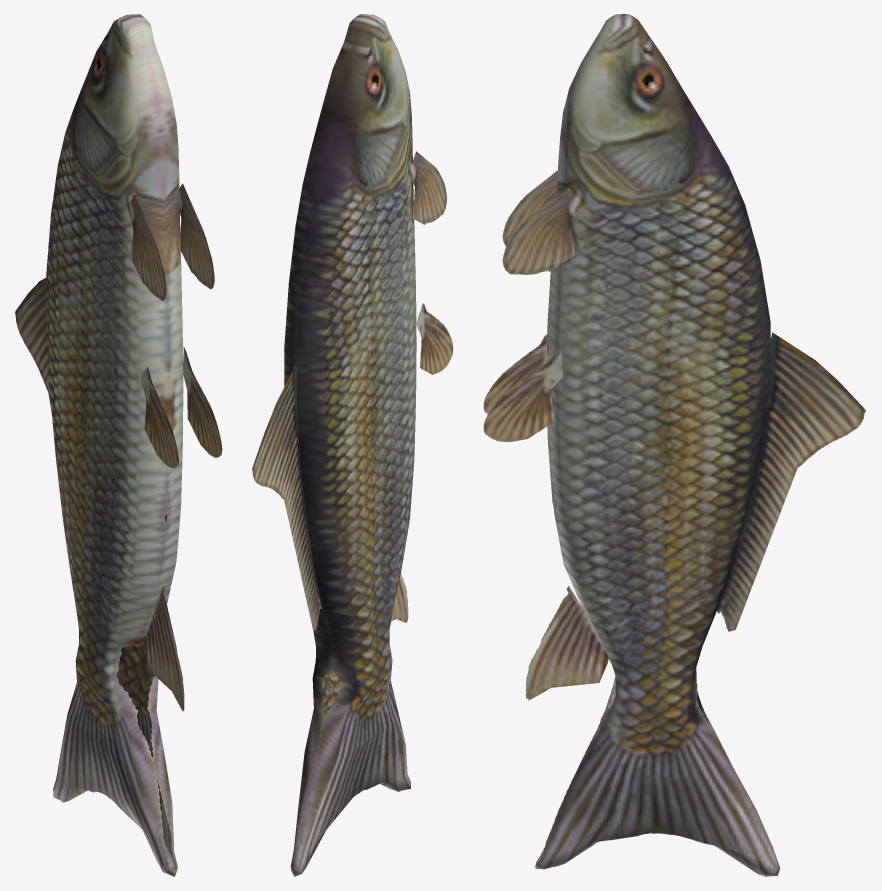
The model's file is fish_locus.fbx.
The picture shows the model from 3 angles, left to right: view 1: azimuth 30°, elevation 25°; view 2: azimuth 150°, elevation 25°; view 3: azimuth 270°, elevation 25°; orthographic projection. The views are drawn at different scales.
Parts seen in each view (by area): view 1: fish_Cube; view 2: fish_Cube; view 3: fish_Cube.
Boxes of the visible parts, x1,y1,x2,y2 form: fish_Cube: (15,14,222,876); fish_Cube: (252,14,453,876); fish_Cube: (483,14,865,876).
Bounding box in the file's own units: 36.42 × 514 × 209.
